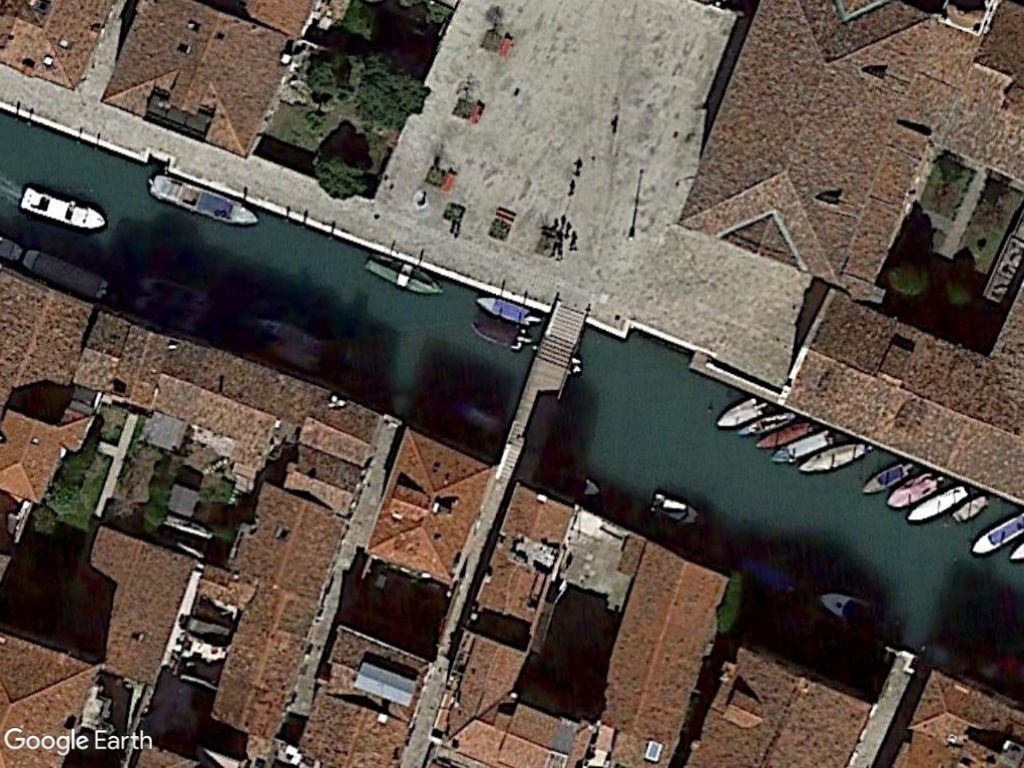boat: (144, 168, 262, 232), (22, 244, 113, 305), (10, 180, 109, 233), (361, 251, 445, 303), (902, 480, 972, 522), (768, 424, 839, 465), (799, 443, 874, 478), (884, 468, 944, 509), (466, 312, 527, 352), (708, 394, 769, 432), (751, 418, 819, 450), (858, 456, 916, 493), (472, 293, 536, 325), (952, 488, 992, 528)
